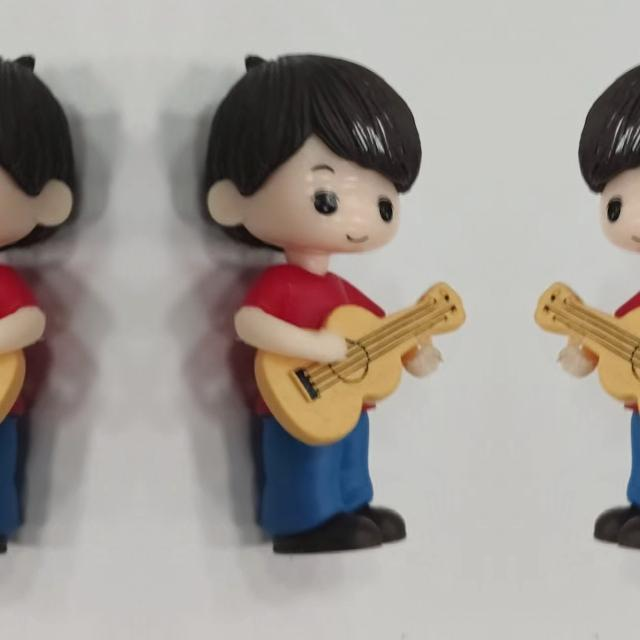man cloth: (242, 258, 394, 410), (0, 257, 38, 410), (606, 257, 640, 410)
man head: (198, 46, 426, 255), (0, 46, 81, 255), (574, 46, 640, 255)
trousers: (255, 415, 431, 559), (569, 415, 640, 559), (0, 415, 25, 559)
